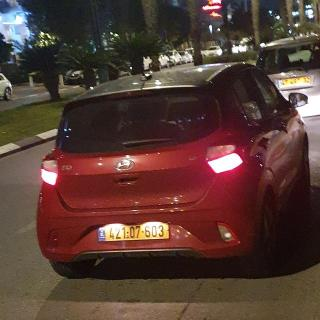LicensePlate: (105, 224, 169, 241)
